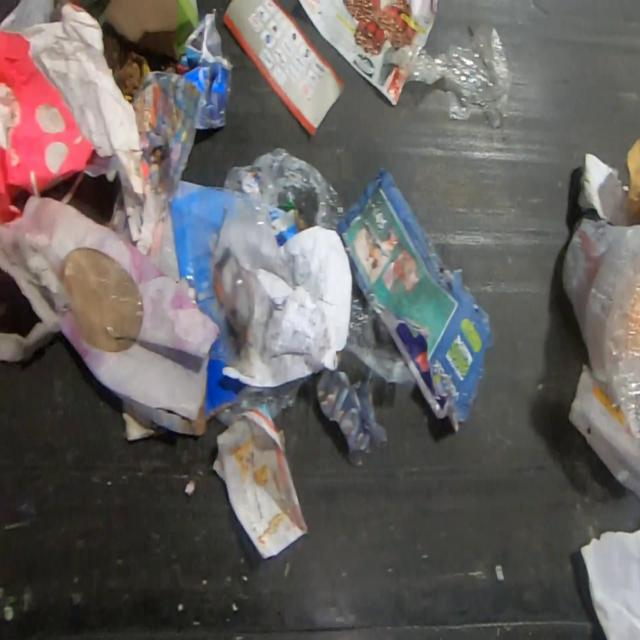cardboard: (0, 194, 223, 437), (337, 165, 496, 434), (0, 1, 146, 227), (98, 0, 200, 62), (577, 136, 640, 225)
soft_plastic: (560, 212, 640, 440), (384, 20, 514, 130), (221, 146, 347, 231), (346, 291, 413, 385), (214, 373, 312, 428)
